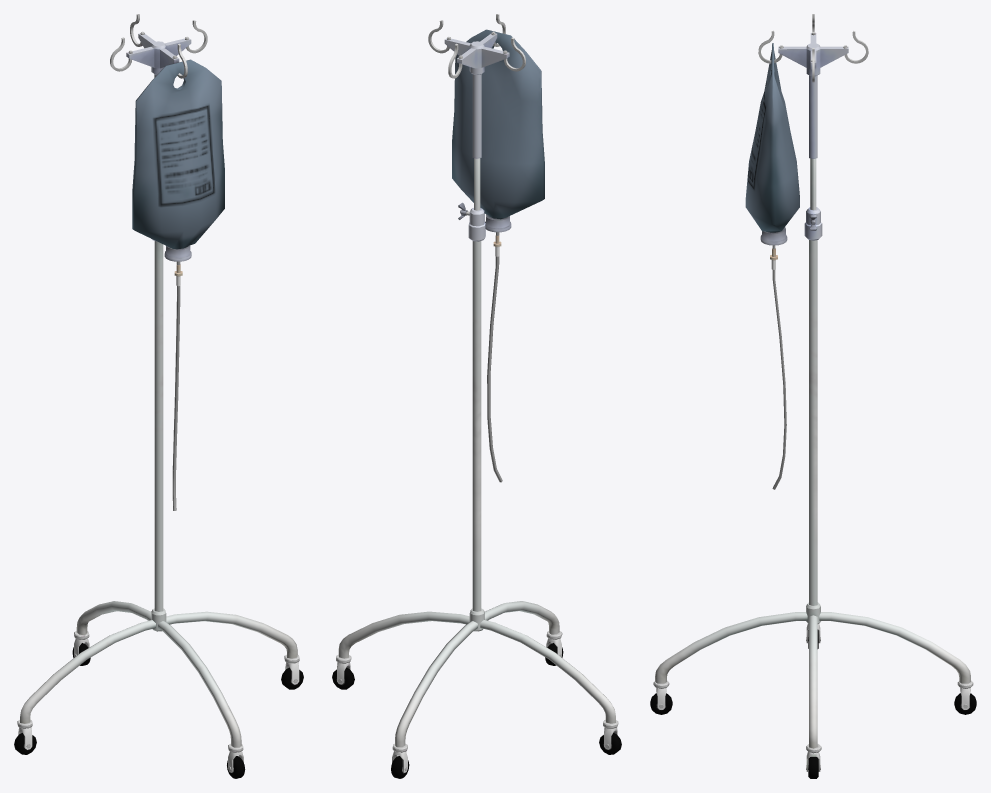
File: HospitalHanger1.FBX
The picture shows the model from 3 angles, left to right: view 1: azimuth 30°, elevation 25°; view 2: azimuth 150°, elevation 25°; view 3: azimuth 270°, elevation 25°; orthographic projection.
Visible parts, largest first — view 1: Dropper_package, Dropper; view 2: Dropper, Dropper_package; view 3: Dropper, Dropper_package.
Boxes of the visible parts, x1=… form: Dropper_package: x1=132, y1=59, x2=224, y2=510; Dropper: x1=17, y1=14, x2=299, y2=752; Dropper: x1=336, y1=14, x2=618, y2=752; Dropper_package: x1=452, y1=29, x2=544, y2=482; Dropper: x1=653, y1=14, x2=973, y2=753; Dropper_package: x1=745, y1=43, x2=799, y2=489.
Size of the model in its own units: 74.39 by 172 by 74.39.
